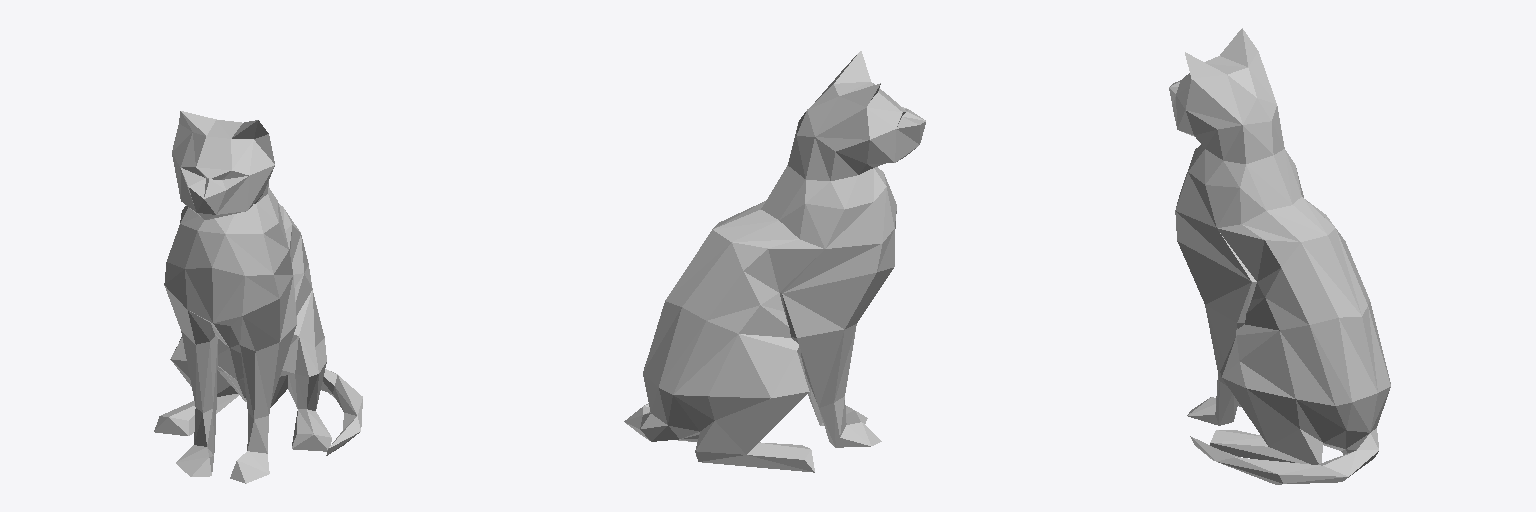
Rendered from cat.obj.
3 renders of one model, left to right at view 1: azimuth 30°, elevation 25°; view 2: azimuth 150°, elevation 25°; view 3: azimuth 270°, elevation 25°, orthographic.
Visible parts, largest first — view 1: cat2:Plane group42; view 2: cat2:Plane group42; view 3: cat2:Plane group42.
Part boxes in pixels (x1,y1,x2,y2): cat2:Plane group42: (154,111,362,483); cat2:Plane group42: (624,51,925,472); cat2:Plane group42: (1169,28,1390,484).
Size of the model in its own units: 15.38 by 24.4 by 13.48.